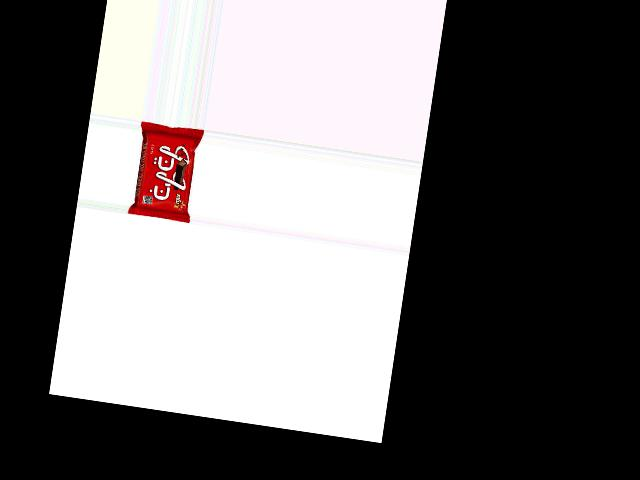chocolate: (126, 121, 203, 222)
